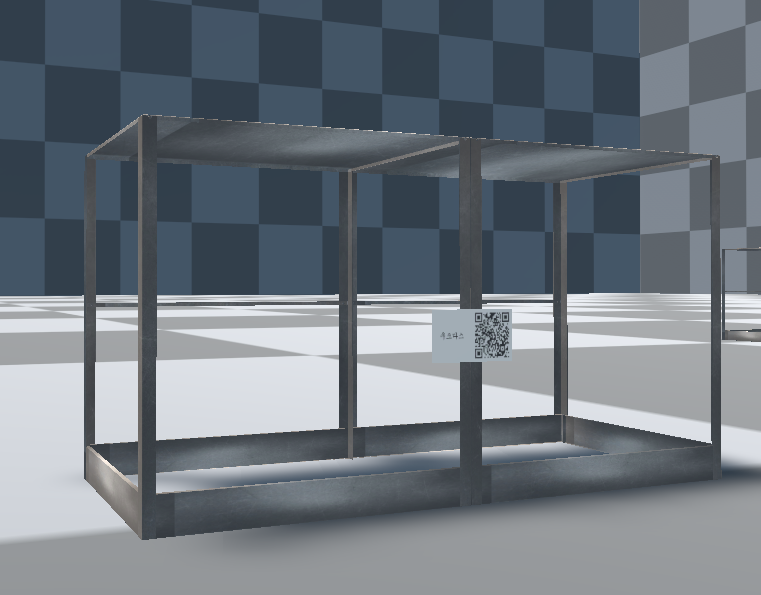Rack: (84, 110, 726, 542)
